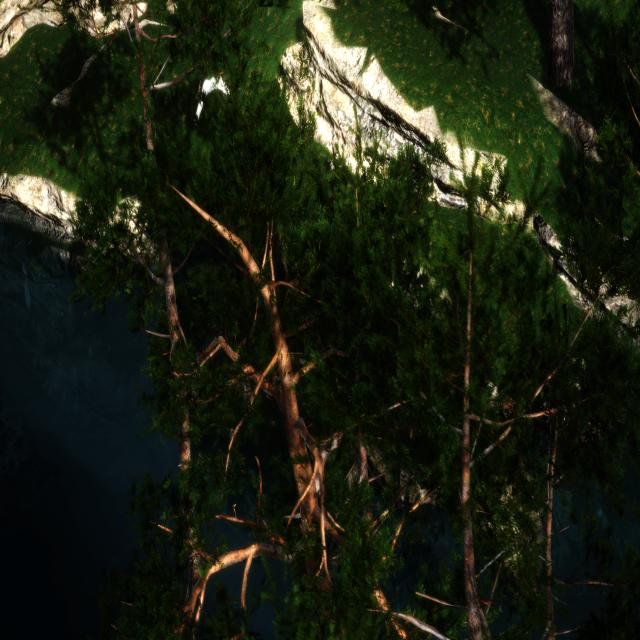Human: (190, 40, 236, 127)
